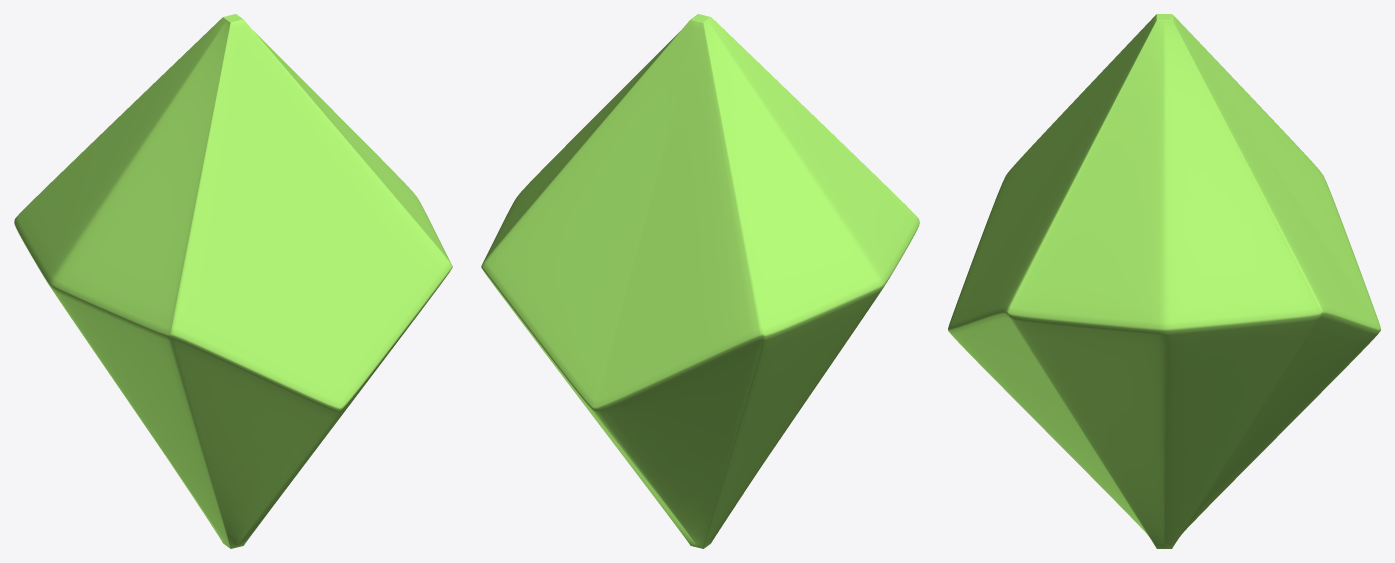
The model's file is boost.gltf.
3 views of the same model, side by side, from view 1: azimuth 30°, elevation 25°; view 2: azimuth 150°, elevation 25°; view 3: azimuth 270°, elevation 25° (orthographic).
Parts seen in each view (by area): view 1: Cube; view 2: Cube; view 3: Cube.
Boxes of the visible parts, <box> form: Cube: <box>14,14,452,548</box>; Cube: <box>481,14,919,548</box>; Cube: <box>948,14,1380,548</box>.
Bounding box in the file's own units: 0.2324 × 0.3211 × 0.2382.
